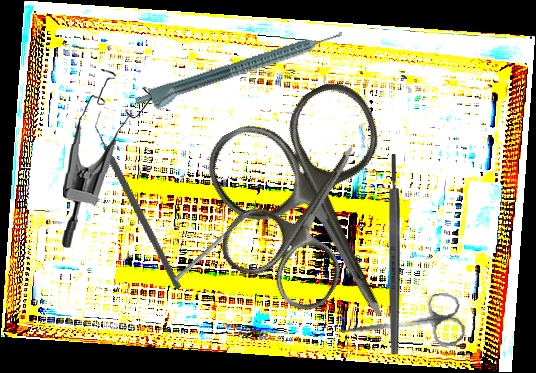Chopper: (42, 111, 237, 290)
Handpiece: (132, 26, 348, 118)
Iris Scissors: (194, 70, 457, 357), (211, 114, 405, 321), (336, 290, 468, 361)
Scalpel Handle: (388, 154, 400, 354)
Spatula Surgical: (171, 199, 261, 282)
Speculum: (60, 67, 154, 251)
